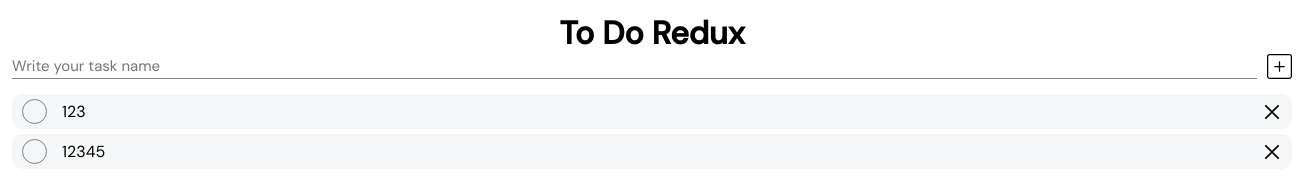
Render TaskPage component › Delete task
Click the 1st picture with test id "task-delete-btn" at (1272, 112), box x1=1262 y1=102 x2=1282 y2=122
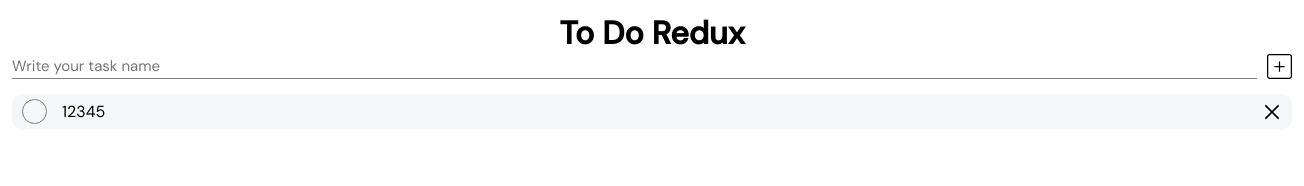
Check: the number of elements with test id "task" is 1, box x1=12 y1=94 x2=1292 y2=129
